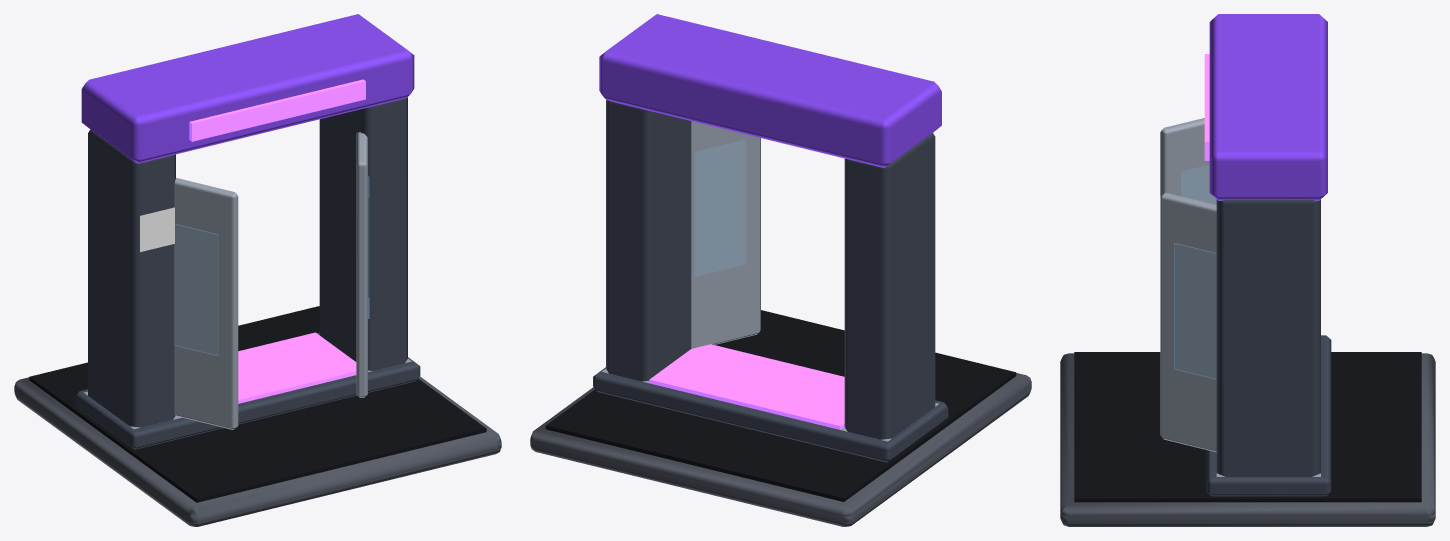
File: igw.glb
3 views of the same model, side by side, from view 1: azimuth 30°, elevation 25°; view 2: azimuth 150°, elevation 25°; view 3: azimuth 270°, elevation 25° (orthographic). The views are drawn at different scales.
Visible parts, largest first — view 1: body.steel, body.accent, body.rubber, body.steel_light, body.concrete, body.accent_glow, body.glass, body.badge; view 2: body.steel, body.accent, body.rubber, body.steel_light, body.concrete, body.accent_glow, body.glass; view 3: body.steel, body.rubber, body.accent, body.steel_light, body.concrete, body.glass, body.accent_glow.
Part boxes in pixels (x1,y1,x2,y2): body.steel: [75, 97, 420, 449]; body.accent: [81, 14, 414, 163]; body.rubber: [29, 306, 486, 502]; body.steel_light: [84, 132, 411, 429]; body.concrete: [14, 376, 501, 526]; body.accent_glow: [179, 79, 365, 417]; body.glass: [174, 176, 369, 355]; body.badge: [140, 207, 174, 252]; body.steel: [593, 100, 948, 462]; body.accent: [599, 14, 941, 168]; body.rubber: [545, 310, 1016, 501]; body.steel_light: [602, 121, 939, 441]; body.concrete: [530, 373, 1031, 526]; body.accent_glow: [649, 344, 844, 429]; body.glass: [695, 140, 745, 276]; body.steel: [1206, 199, 1331, 496]; body.rubber: [1074, 352, 1421, 502]; body.accent: [1209, 14, 1327, 200]; body.steel_light: [1160, 118, 1320, 476]; body.concrete: [1060, 353, 1435, 526]; body.glass: [1174, 165, 1216, 379]; body.accent_glow: [1204, 54, 1209, 160].
Size of the model in its own units: 1.08 by 1.17 by 1.08.
